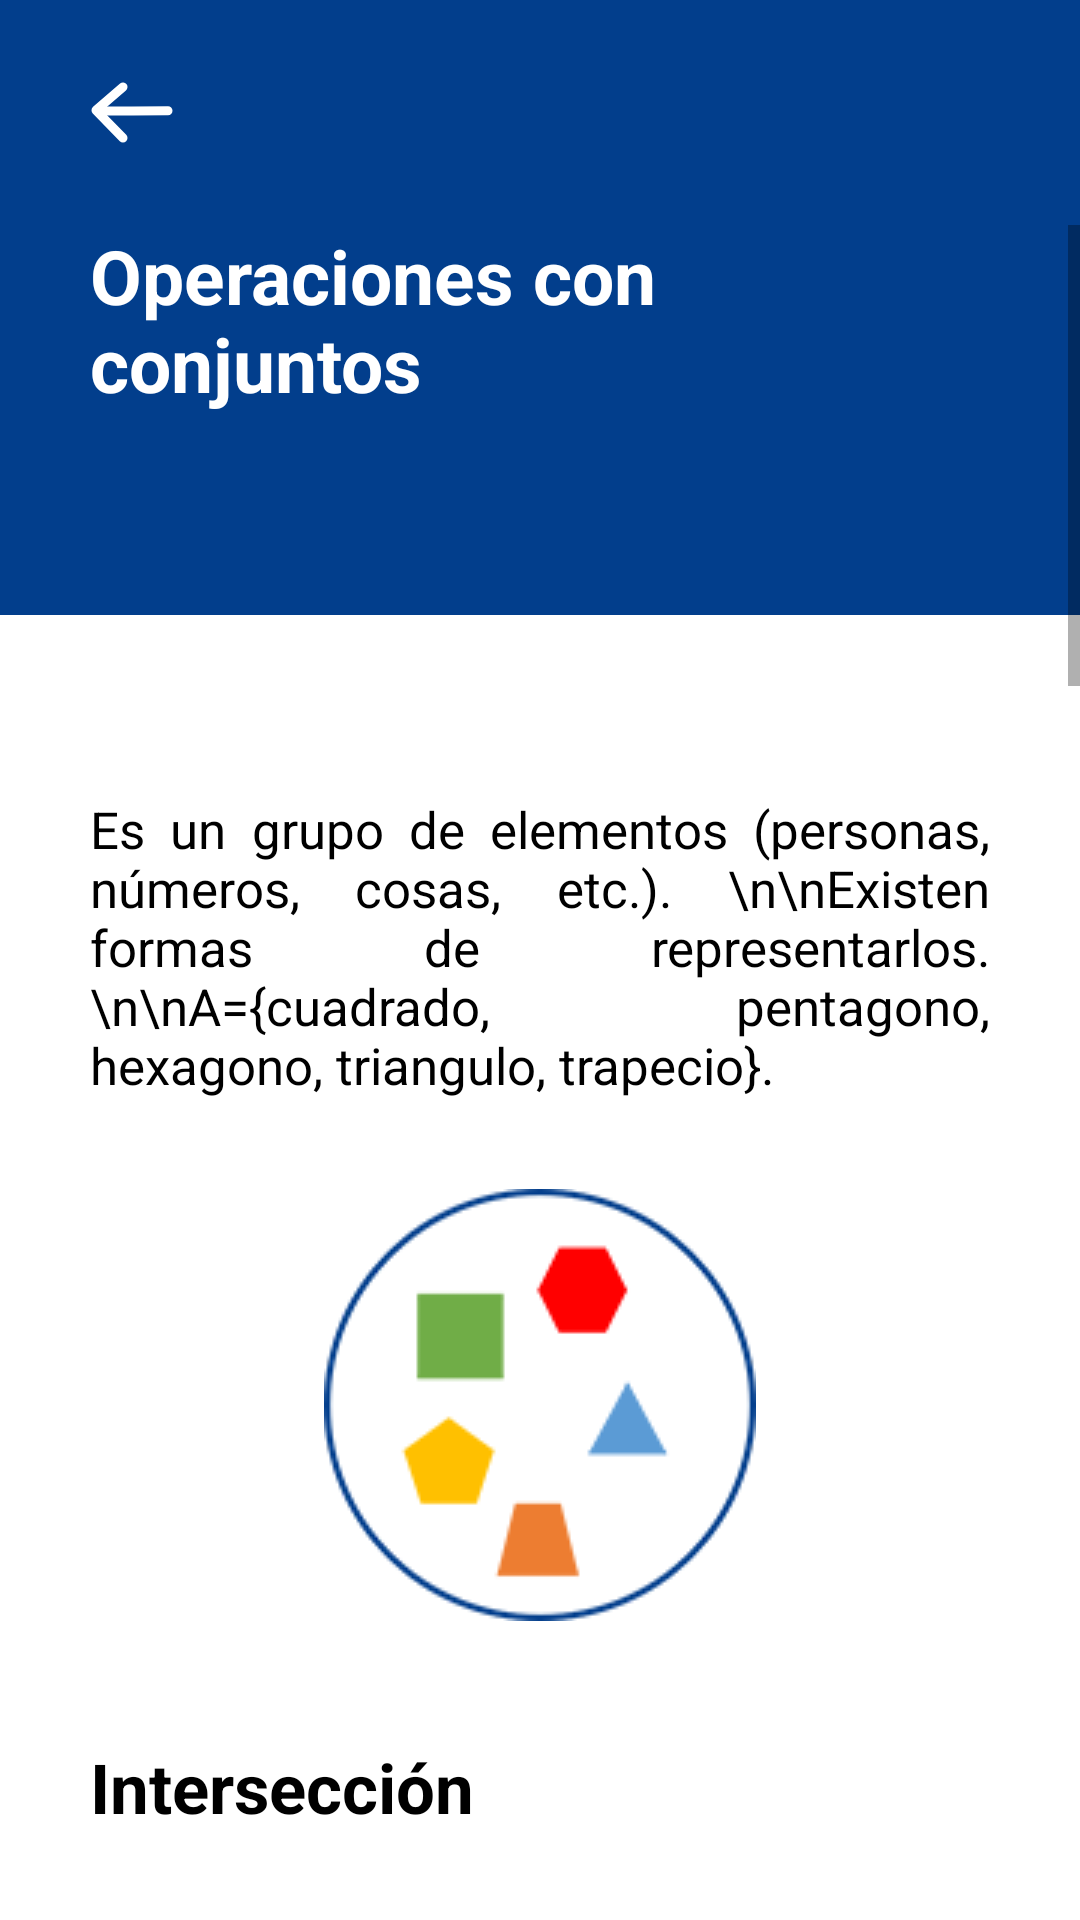

Where icons sit on this 1080px×1920px app screen, as bbox(x1, y1, x2, y2):
retroceso: bbox(91, 82, 173, 143)
